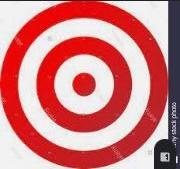target_red: (0, 0, 168, 168)
